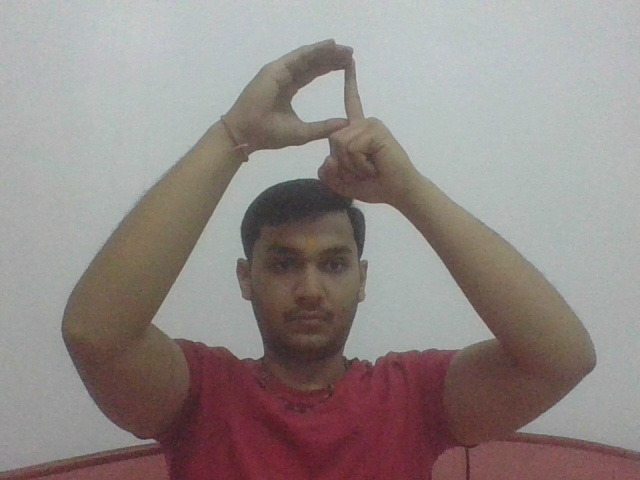D: (235, 39, 414, 202)
